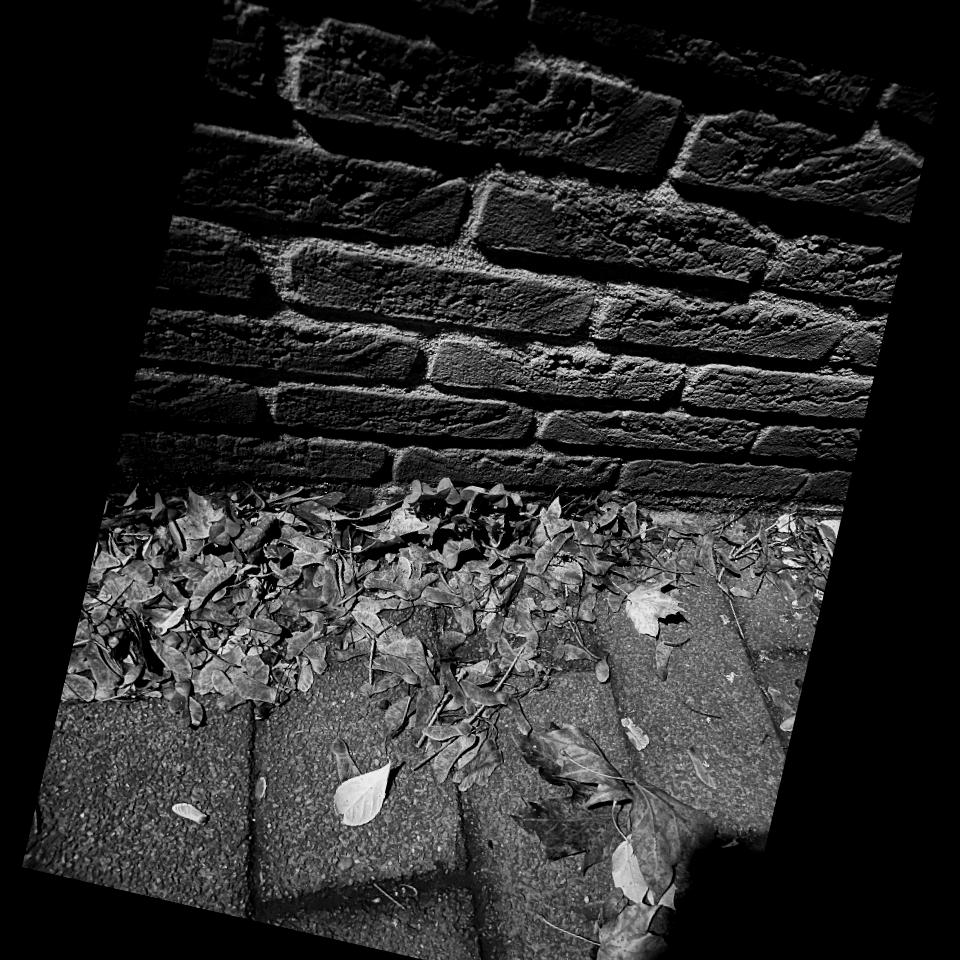weed: (399, 464, 539, 560), (210, 506, 257, 553), (146, 494, 176, 526), (268, 545, 292, 571)
